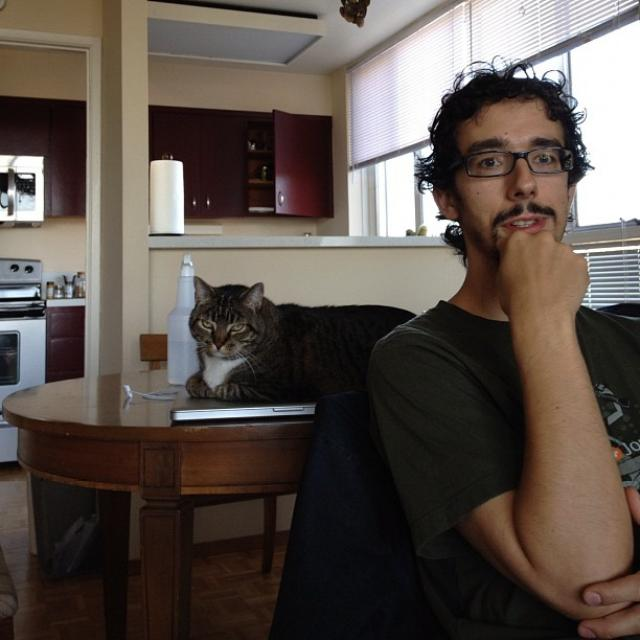cats: (184, 271, 421, 405)
